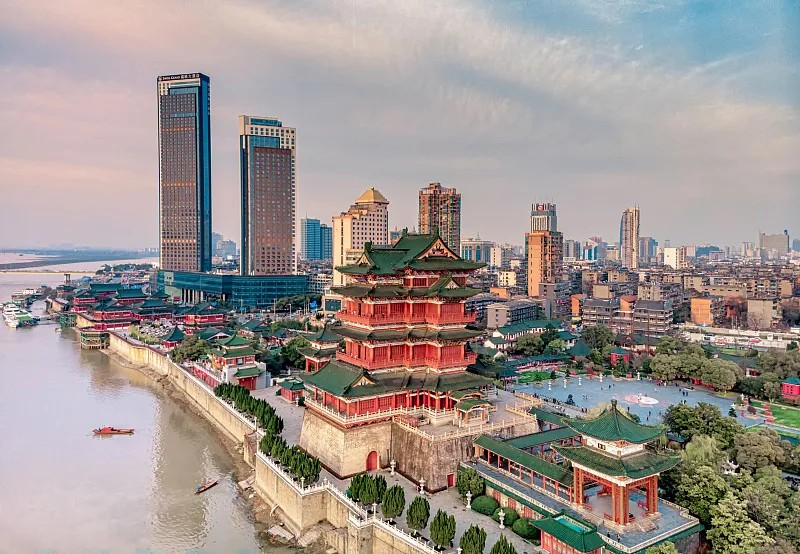Teng: (303, 226, 496, 419)
